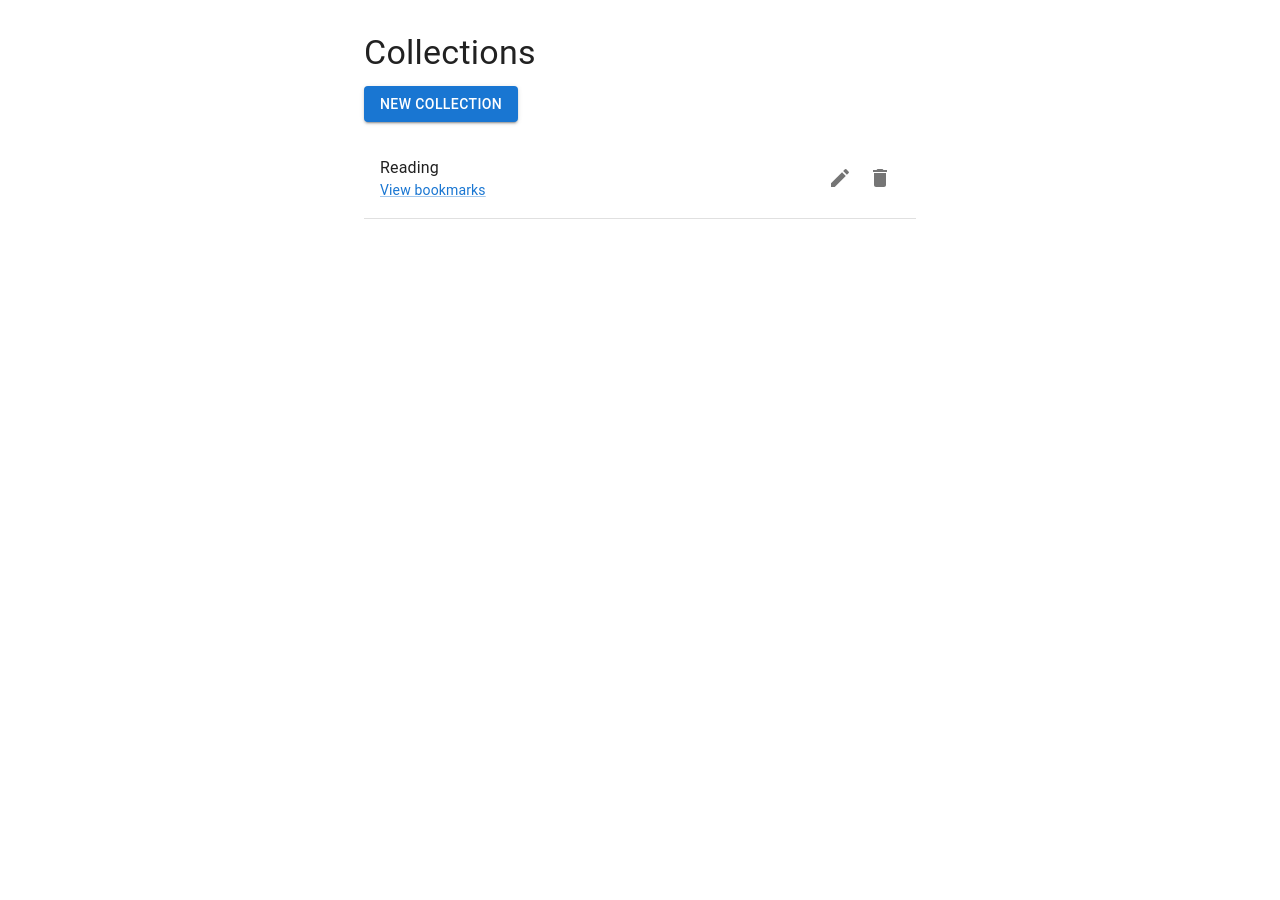
Collections — delete › shows an error when deleting fails
The image size is (1280, 900).
Expected: the text "Reading" is shown, [380, 158, 439, 177]
Click the button named "delete reading" at point(880, 178), box [860, 158, 900, 198]
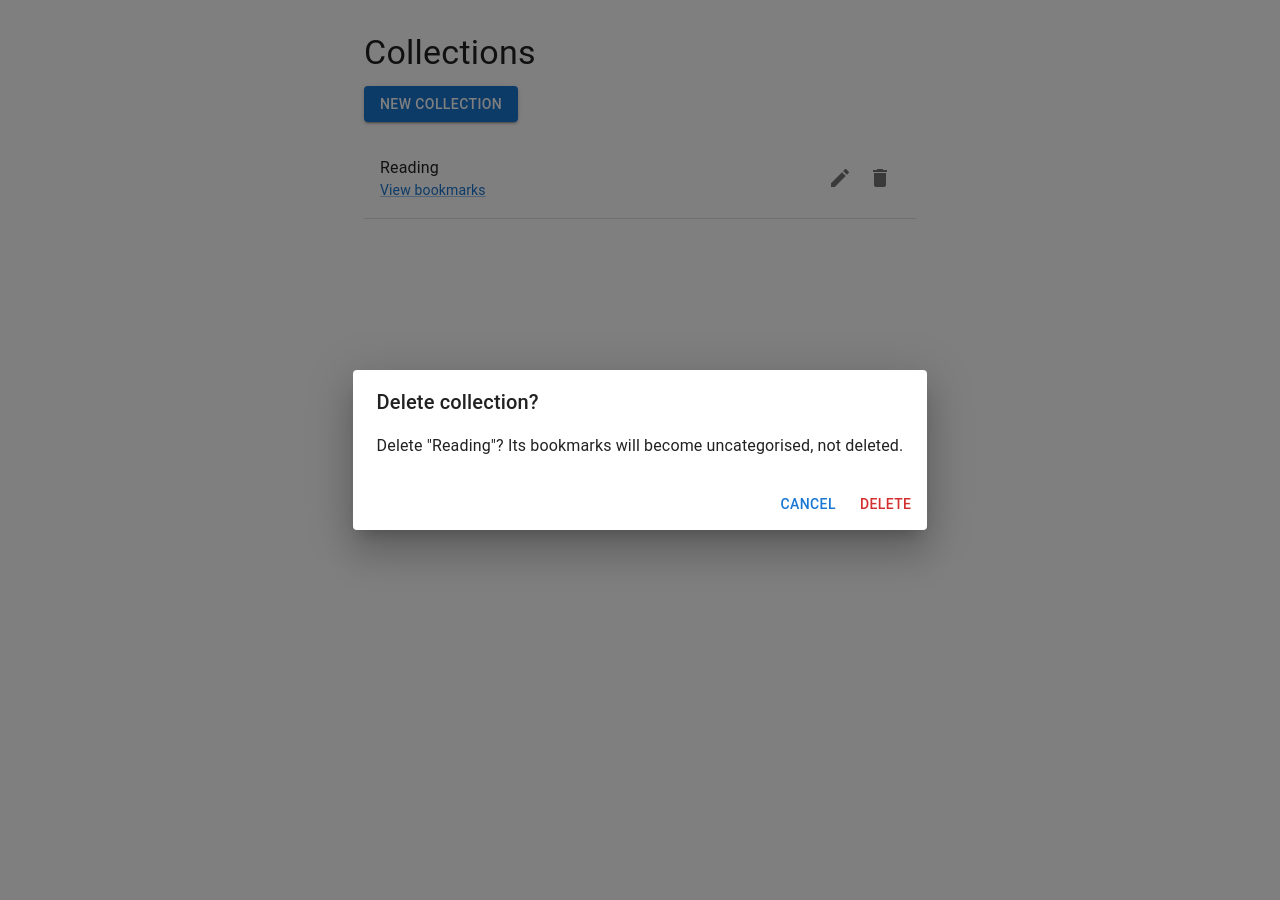
Click the button "Delete" at point(886, 504), box [852, 486, 919, 522]
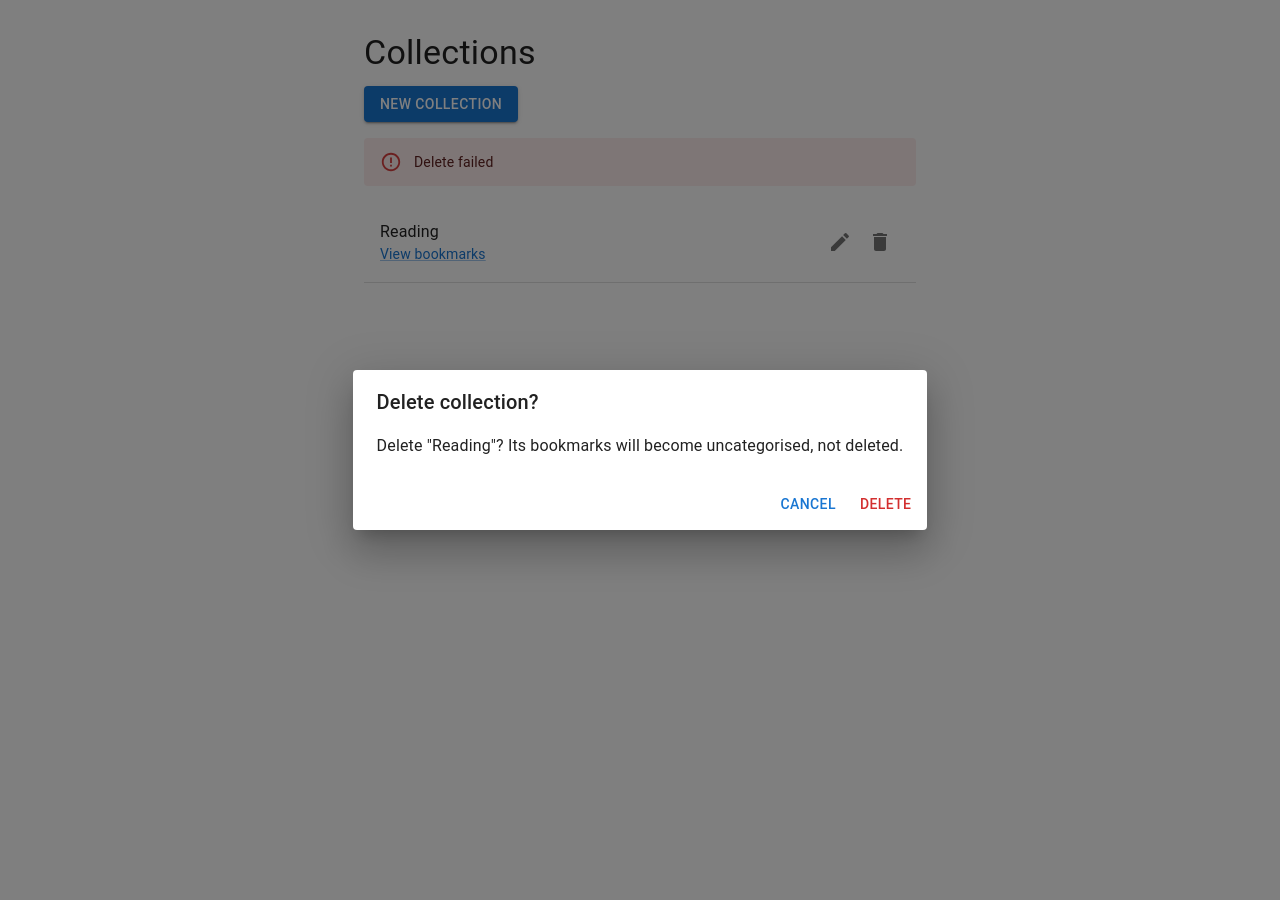
Expected: the text "Reading" is shown, [380, 222, 439, 241]
Result: the text "Delete failed" is shown at [414, 154, 494, 170]
